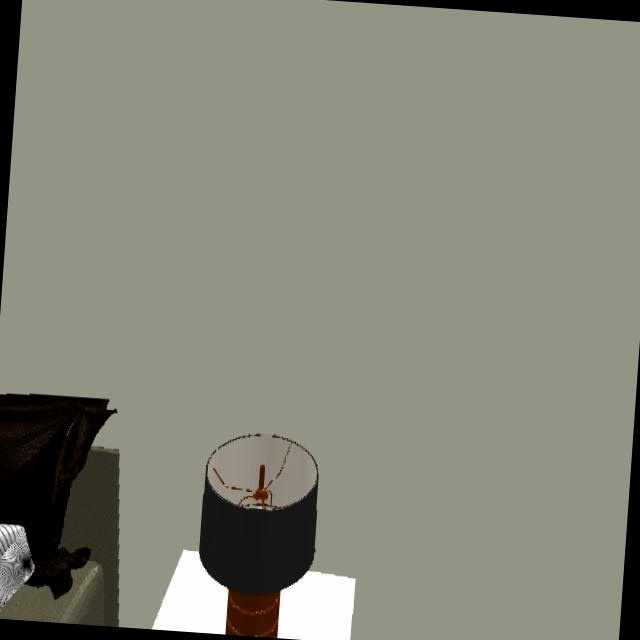bed: (0, 395, 119, 627)
lamp: (197, 432, 321, 638)
nighttable: (159, 550, 227, 633), (277, 570, 355, 640)
